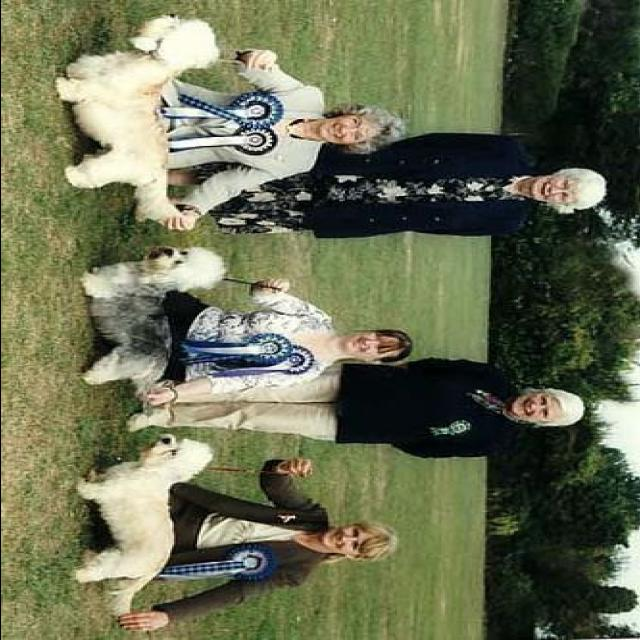dandie_dinmont: (54, 12, 221, 220), (73, 244, 227, 423), (69, 434, 215, 618)
